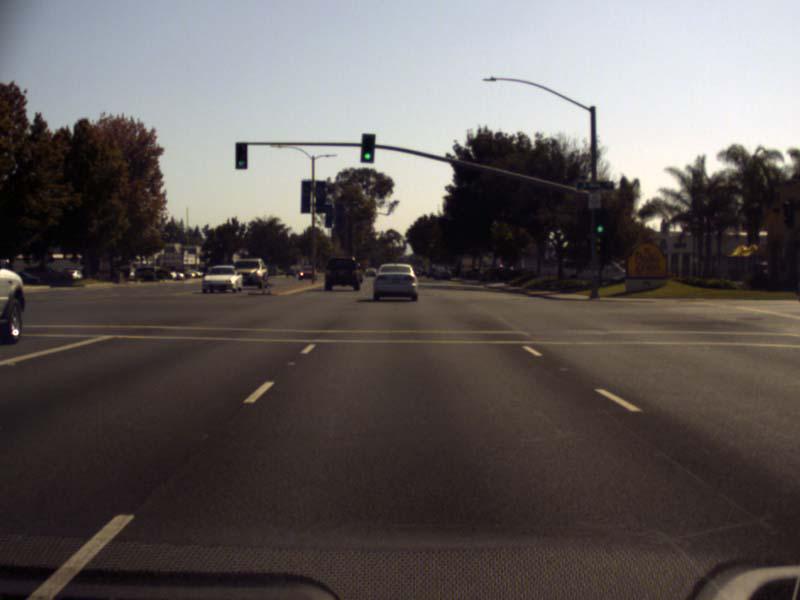Green: (361, 134, 374, 162), (235, 142, 246, 168), (594, 224, 605, 234)
